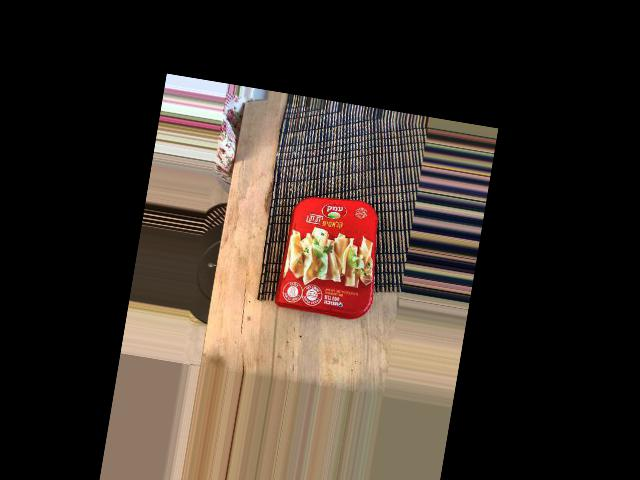cheese: (283, 136, 429, 244)
